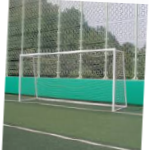goals: (18, 46, 128, 114)
